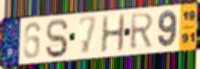6: (22, 21, 42, 60)
7: (77, 15, 98, 57)
9: (157, 9, 179, 50)
H: (99, 13, 126, 54)
R: (129, 11, 155, 51)
S: (44, 17, 70, 59)
